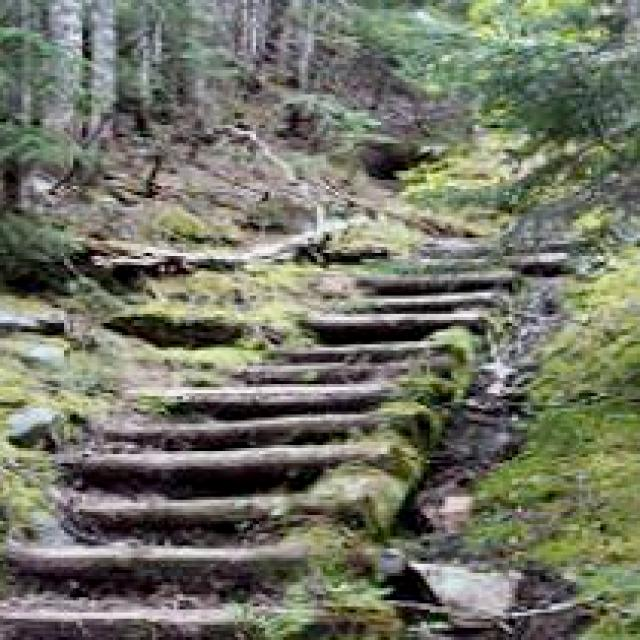upstair: (38, 315, 330, 640)
